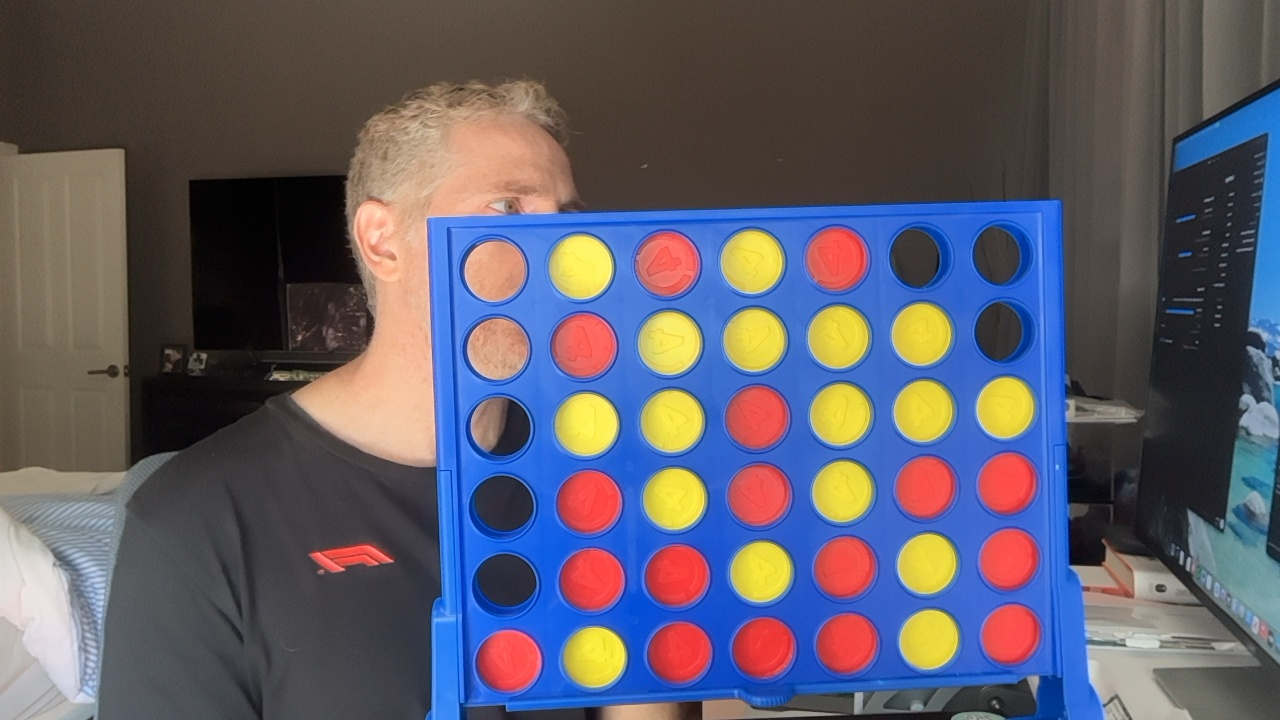red piece: (551, 313, 616, 378), (635, 231, 699, 296), (476, 629, 541, 693), (557, 470, 621, 534), (559, 548, 624, 611), (725, 385, 788, 450), (647, 621, 711, 684), (728, 463, 791, 527), (805, 227, 867, 291), (732, 617, 795, 679), (645, 545, 708, 607), (895, 456, 956, 519), (814, 536, 875, 599), (816, 613, 877, 675), (979, 528, 1039, 590), (981, 604, 1041, 665), (978, 452, 1037, 514)
yellow piece: (548, 234, 614, 299), (720, 229, 784, 294), (637, 311, 702, 375), (554, 392, 618, 456), (640, 389, 704, 453), (562, 626, 626, 689), (723, 307, 786, 371), (643, 467, 706, 531), (730, 541, 793, 604), (891, 302, 953, 366), (809, 382, 871, 446), (807, 305, 869, 369), (811, 460, 873, 523), (894, 380, 954, 442), (897, 533, 957, 595), (899, 609, 959, 670), (977, 376, 1035, 439)
